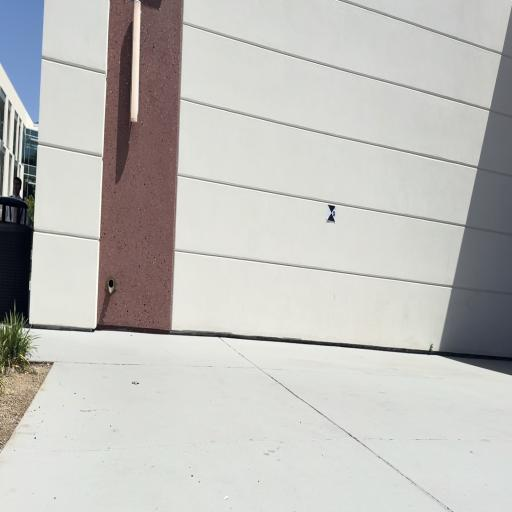target0: (326, 204, 336, 223)
